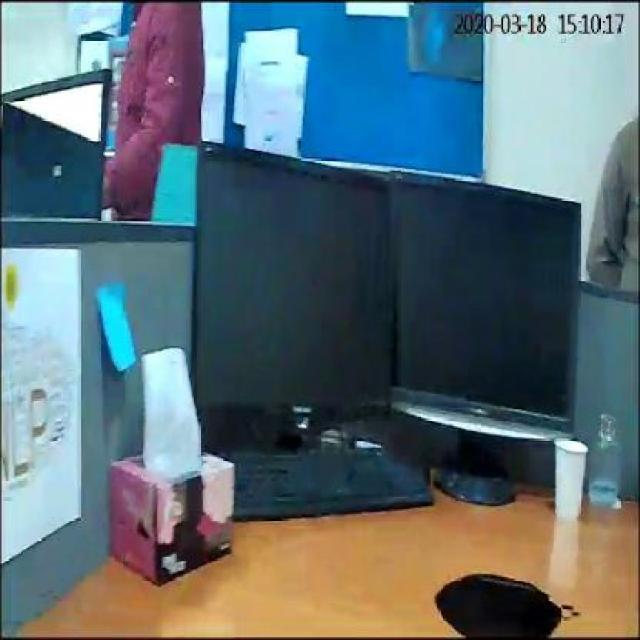spill: (434, 575, 562, 640)
